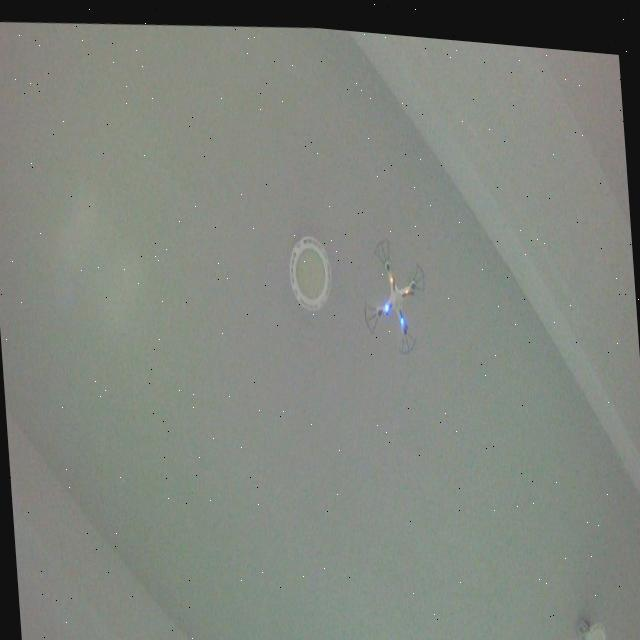drone: (356, 224, 434, 353)
